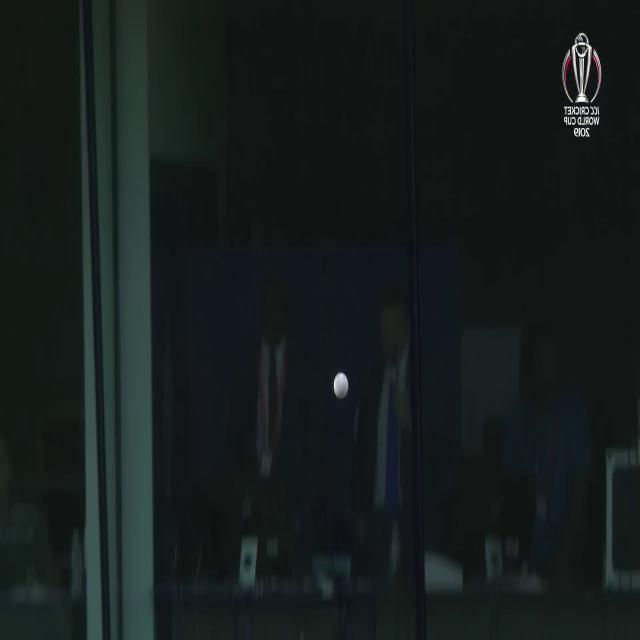ball: (326, 359, 354, 408)
